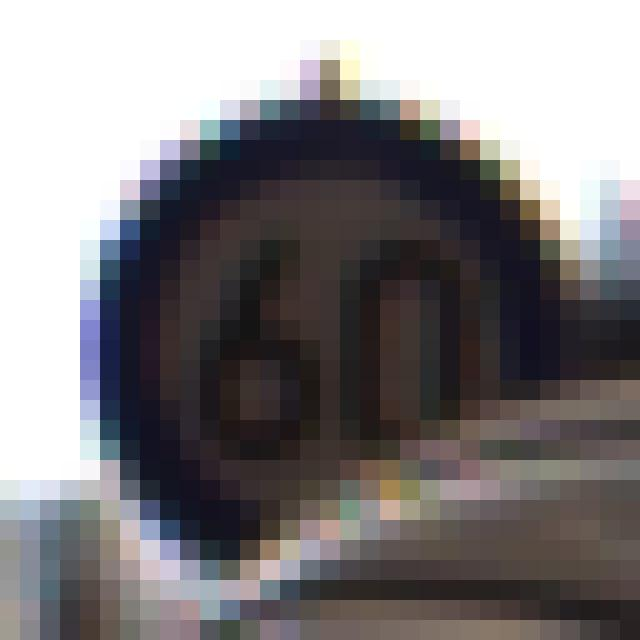SPEED-LIMIT-60: (79, 96, 580, 578)
